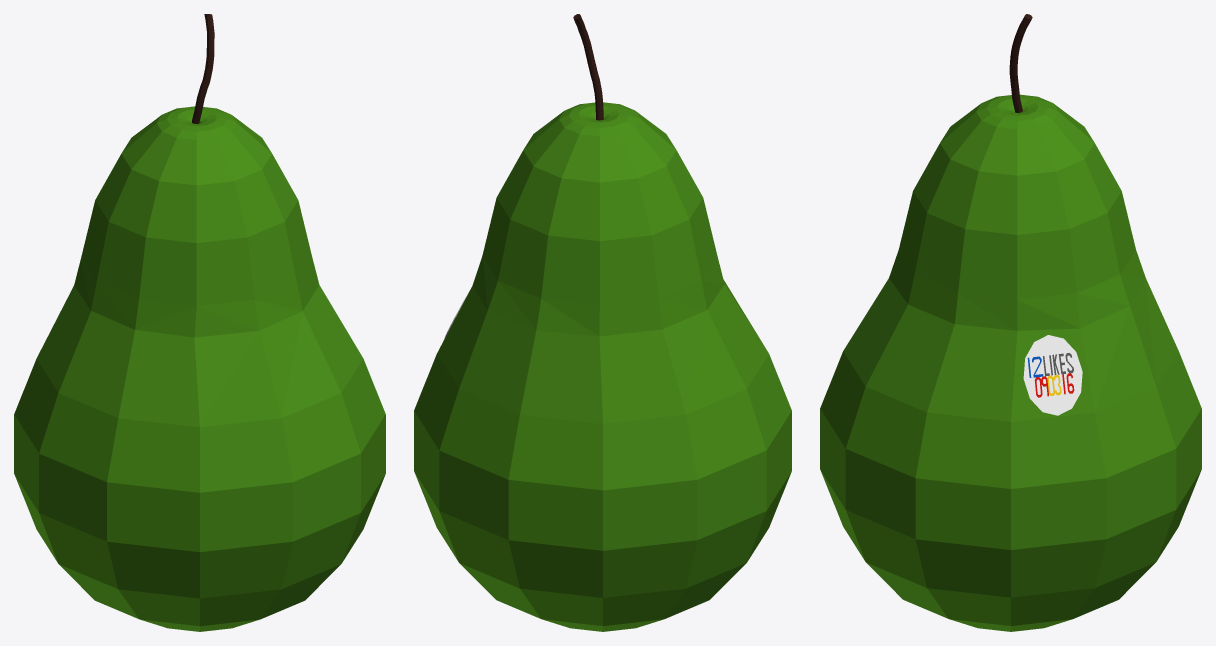
File: pear.obj
The picture shows the model from 3 angles, left to right: view 1: azimuth 30°, elevation 25°; view 2: azimuth 150°, elevation 25°; view 3: azimuth 270°, elevation 25°; orthographic projection. The views are drawn at different scales.
Parts seen in each view (by area): view 1: group1973718308, group1455987961, group658648467; view 2: group1973718308, group1455987961, group658648467; view 3: group1455987961, group1973718308, group601068513, group658648467.
Boxes of the visible parts, box(x1,y1,x2,y2) form: group1973718308: box(36, 106, 363, 427); group1455987961: box(14, 359, 385, 631); group658648467: box(192, 14, 214, 123); group1973718308: box(437, 102, 768, 423); group1455987961: box(414, 354, 791, 631); group658648467: box(573, 14, 603, 120); group1455987961: box(820, 351, 1201, 631); group1973718308: box(843, 94, 1178, 421); group601068513: box(1023, 335, 1082, 415); group658648467: box(1009, 14, 1032, 112).
Size of the model in its own units: 3.24 by 5.69 by 3.24.
